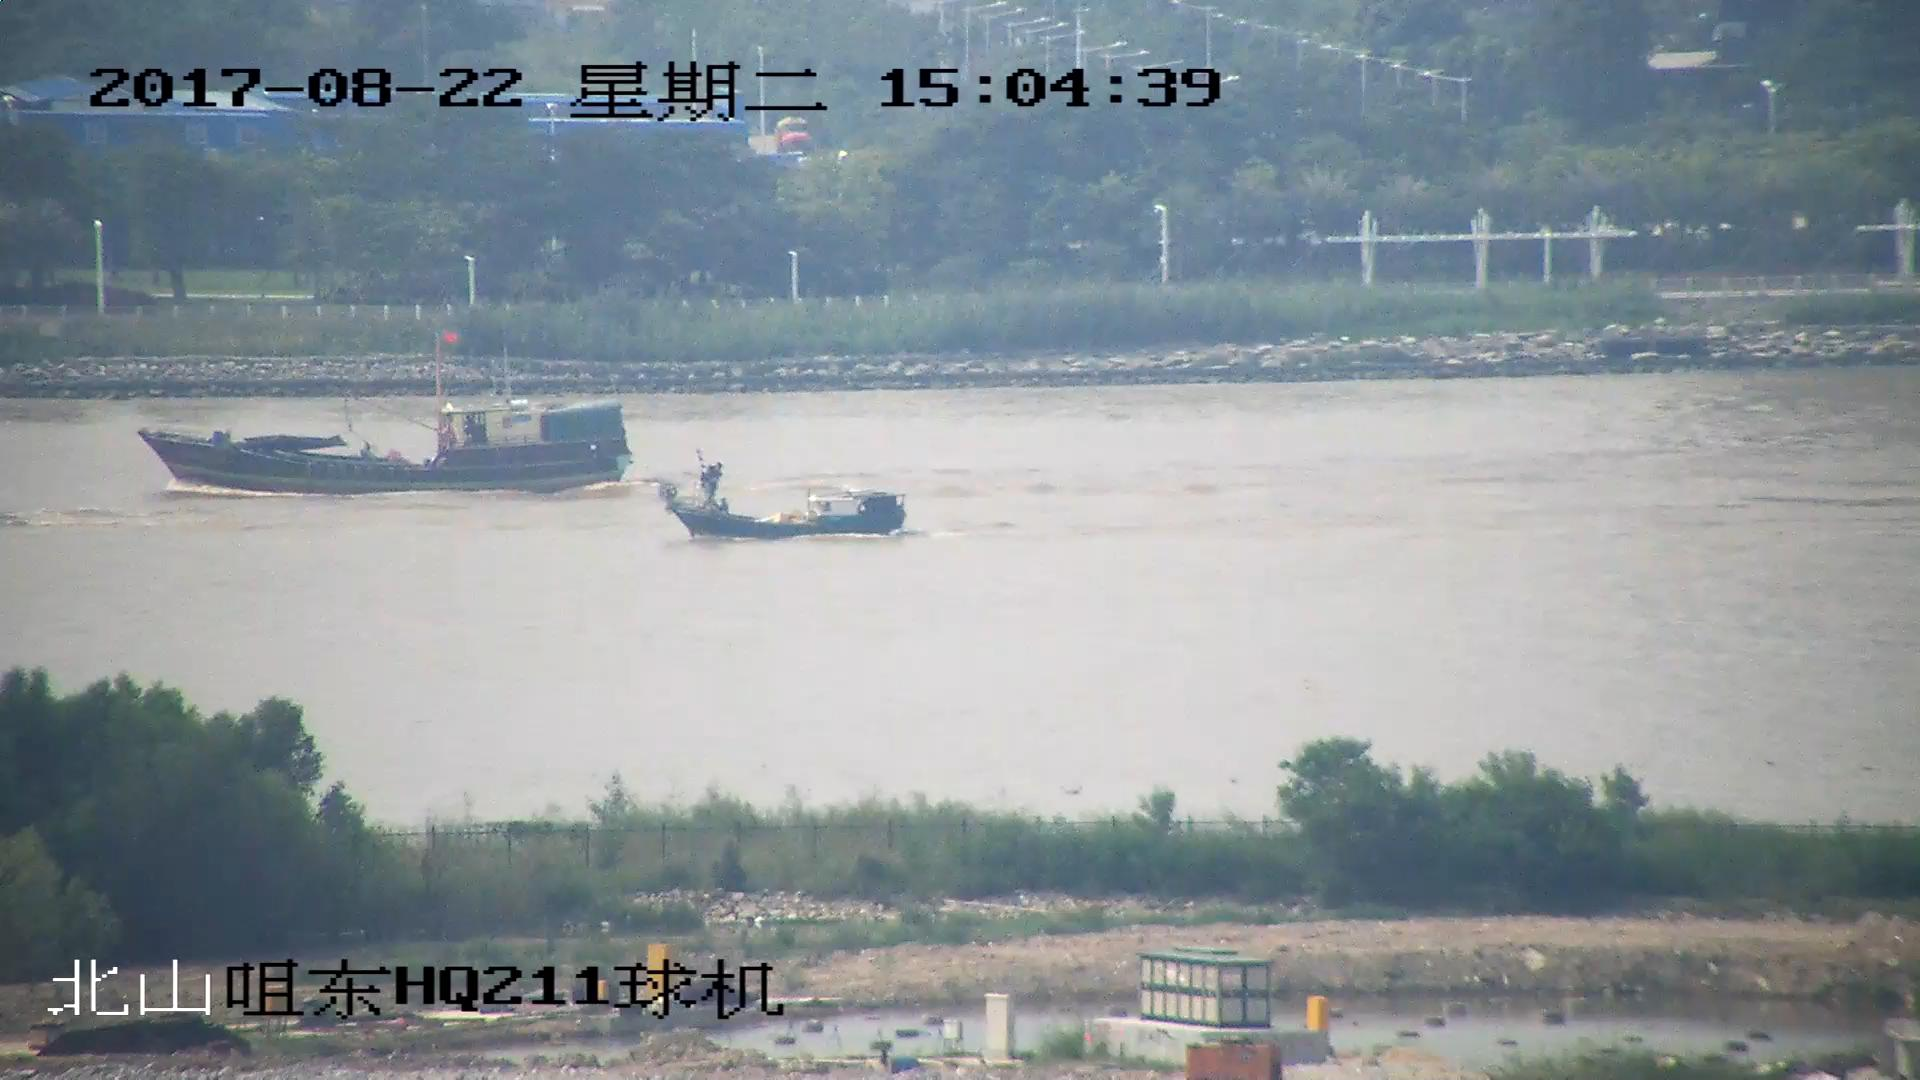fishing boat: (140, 333, 633, 497), (655, 458, 908, 544)
